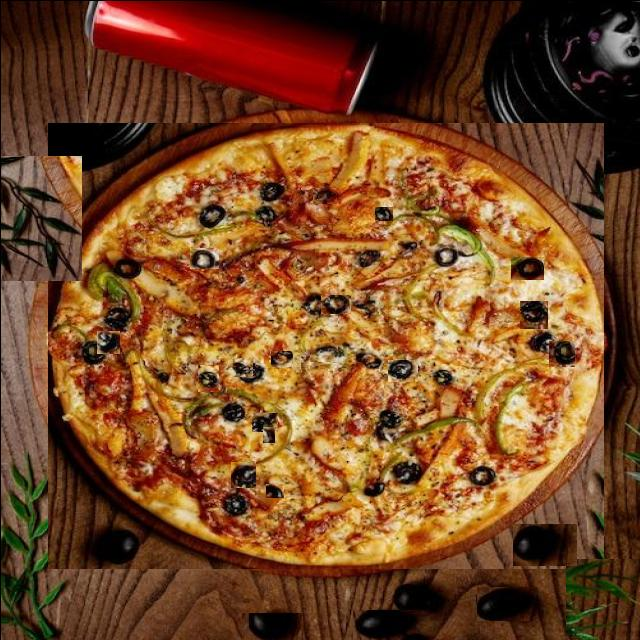basil: (0, 459, 79, 640), (0, 155, 81, 280), (565, 558, 640, 640)
olive: (512, 523, 576, 565), (352, 609, 428, 640), (476, 586, 537, 620), (388, 584, 452, 614), (241, 612, 302, 640), (519, 300, 547, 328), (510, 256, 543, 279), (155, 466, 188, 489), (548, 340, 574, 366), (228, 461, 254, 487), (387, 359, 417, 381), (189, 247, 218, 268), (197, 362, 218, 390), (320, 294, 350, 313), (401, 399, 425, 422), (402, 494, 425, 518), (427, 206, 451, 229), (309, 342, 337, 361), (96, 330, 119, 353), (251, 412, 277, 431), (367, 181, 388, 203), (272, 246, 292, 268), (312, 187, 336, 203), (232, 357, 252, 376), (270, 350, 292, 366), (265, 483, 283, 497), (231, 241, 252, 253), (374, 206, 392, 220), (262, 426, 274, 442)
pizza: (47, 122, 603, 568)
